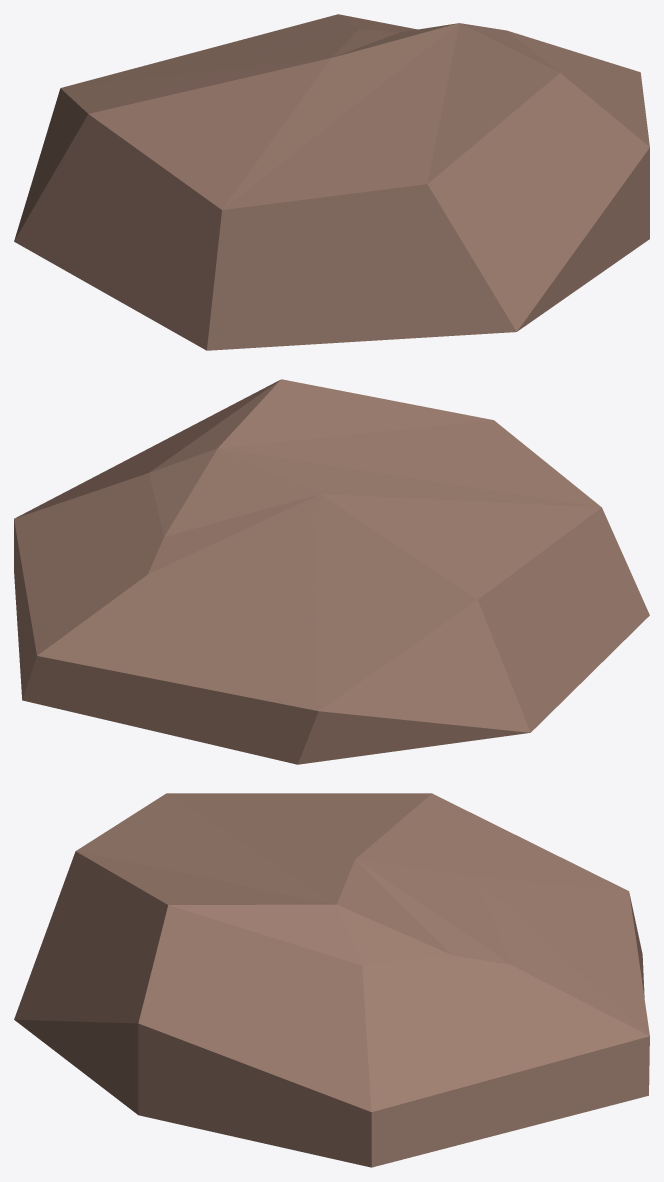
The model's file is Rock.023.fbx.
3 renders of one model, top to bottom at view 1: azimuth 30°, elevation 25°; view 2: azimuth 150°, elevation 25°; view 3: azimuth 270°, elevation 25°, orthographic. The views are drawn at different scales.
Visible parts, largest first — view 1: Rock.023; view 2: Rock.023; view 3: Rock.023.
Part boxes in pixels (bbox=[...]): Rock.023: bbox=[14, 14, 649, 350]; Rock.023: bbox=[14, 379, 649, 764]; Rock.023: bbox=[14, 793, 649, 1167].
Bounding box in the file's own units: 4.91 × 1.38 × 4.59.
